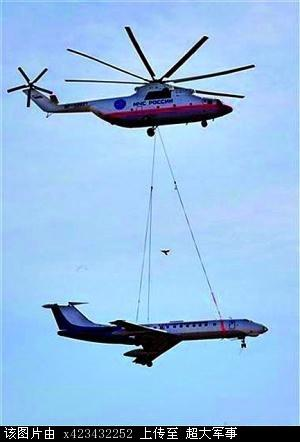airplane: (17, 26, 254, 133), (42, 283, 269, 362)
